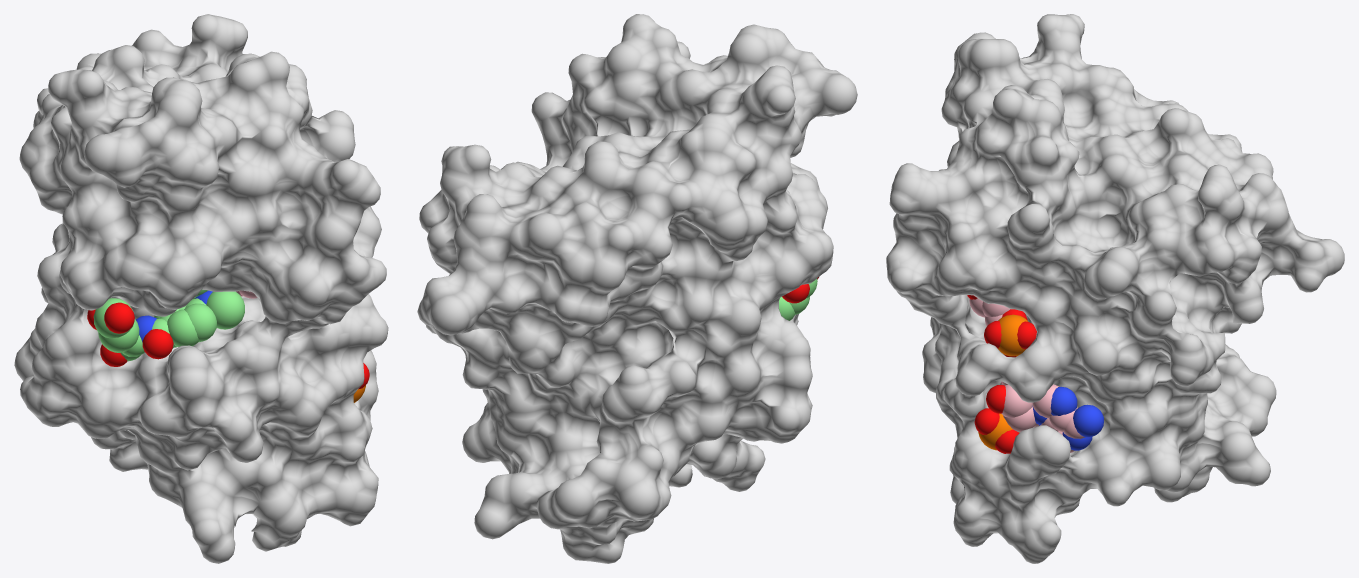
File: MTX + NADPH + DHFR.dae
3 views of the same model, side by side, from view 1: azimuth 30°, elevation 25°; view 2: azimuth 150°, elevation 25°; view 3: azimuth 270°, elevation 25° (orthographic). The views are drawn at different scales.
Parts seen in each view (by area): view 1: subnode_81, subnode_62, subnode_64, subnode_65, subnode_79, subnode_70, subnode_77, subnode_78; view 2: subnode_81; view 3: subnode_81, subnode_23, subnode_17, subnode_14, subnode_7.
Part boxes in pixels (x1=…): subnode_81: x1=14, y1=14, x2=388, y2=563; subnode_62: x1=206, y1=291, x2=244, y2=329; subnode_64: x1=167, y1=309, x2=198, y2=346; subnode_65: x1=184, y1=303, x2=216, y2=342; subnode_79: x1=104, y1=302, x2=134, y2=333; subnode_70: x1=142, y1=329, x2=173, y2=359; subnode_77: x1=98, y1=319, x2=139, y2=351; subnode_78: x1=93, y1=298, x2=134, y2=338; subnode_81: x1=417, y1=14, x2=857, y2=563; subnode_81: x1=886, y1=14, x2=1344, y2=563; subnode_23: x1=998, y1=314, x2=1028, y2=356; subnode_17: x1=1073, y1=404, x2=1103, y2=437; subnode_14: x1=1050, y1=386, x2=1077, y2=415; subnode_7: x1=1001, y1=385, x2=1032, y2=417.
Size of the model in its own units: 34.03 by 48.5 by 45.66.
